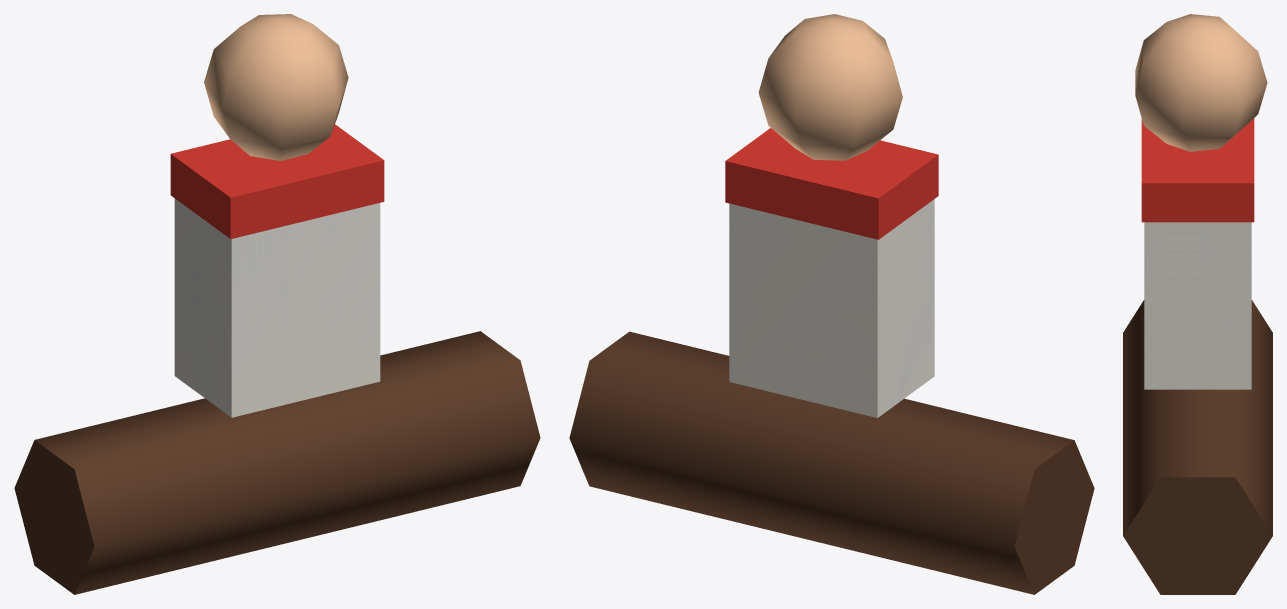
Rendered from leto-sitter.glb.
The picture shows the model from 3 angles, left to right: view 1: azimuth 30°, elevation 25°; view 2: azimuth 150°, elevation 25°; view 3: azimuth 270°, elevation 25°; orthographic projection. The views are drawn at different scales.
Visible parts, largest first — view 1: 00_#5a3a26_noshadow_r320, 01_#f1ede2_noshadow_r320, solid, 03_#e8b890_noshadow_r110, 02_#d8362b_noshadow_r110; view 2: 00_#5a3a26_noshadow_r320, 01_#f1ede2_noshadow_r320, 03_#e8b890_noshadow_r110, 02_#d8362b_noshadow_r110, solid; view 3: 00_#5a3a26_noshadow_r320, 01_#f1ede2_noshadow_r320, 03_#e8b890_noshadow_r110, 02_#d8362b_noshadow_r110, solid.
Part boxes in pixels (x1,y1,x2,y2): 00_#5a3a26_noshadow_r320: (14, 331, 540, 594); 01_#f1ede2_noshadow_r320: (174, 198, 380, 417); solid: (174, 199, 380, 410); 03_#e8b890_noshadow_r110: (204, 14, 348, 160); 02_#d8362b_noshadow_r110: (170, 124, 384, 238); 00_#5a3a26_noshadow_r320: (569, 331, 1094, 594); 01_#f1ede2_noshadow_r320: (729, 199, 934, 417); 03_#e8b890_noshadow_r110: (758, 14, 902, 160); 02_#d8362b_noshadow_r110: (725, 128, 938, 239); solid: (729, 199, 934, 413); 00_#5a3a26_noshadow_r320: (1123, 300, 1272, 594); 01_#f1ede2_noshadow_r320: (1144, 222, 1251, 389); 03_#e8b890_noshadow_r110: (1135, 14, 1267, 151); 02_#d8362b_noshadow_r110: (1141, 118, 1254, 222); solid: (1144, 222, 1251, 386).
Bounding box in the file's own units: 1.8 × 1.95 × 0.56.
